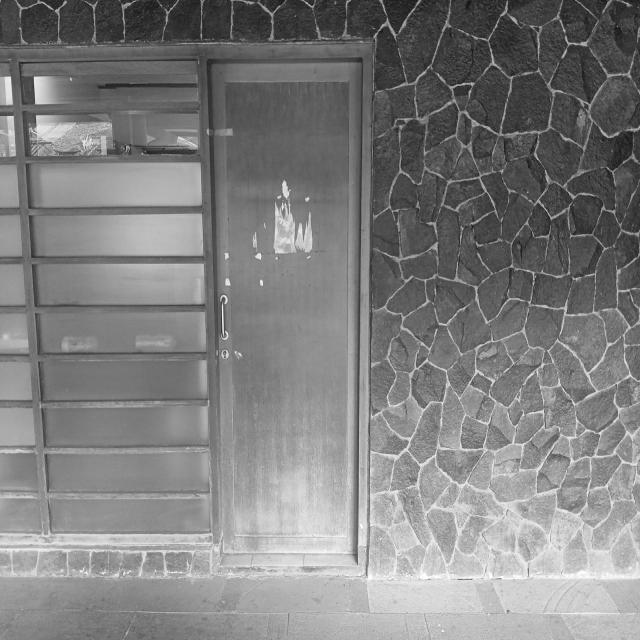door: (203, 53, 364, 559)
